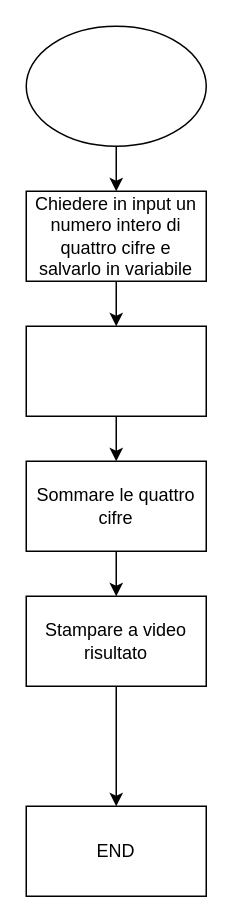
Image size: 233x923. Some labels were removed from this diagram. The centre of each missing label's shape, as x and y in pixels:
"Dividere il numero in quattro cifre" belongs at (x=115, y=370).
"START" belongs at (x=115, y=85).
